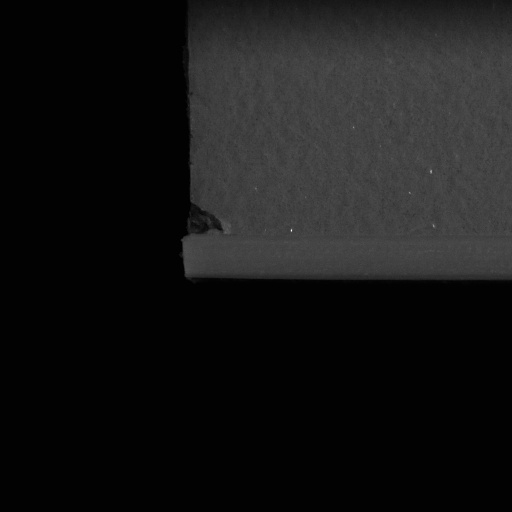bengque: (185, 201, 230, 237)
